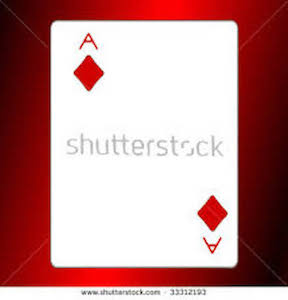AceOfDiamonds: (46, 16, 245, 268)
